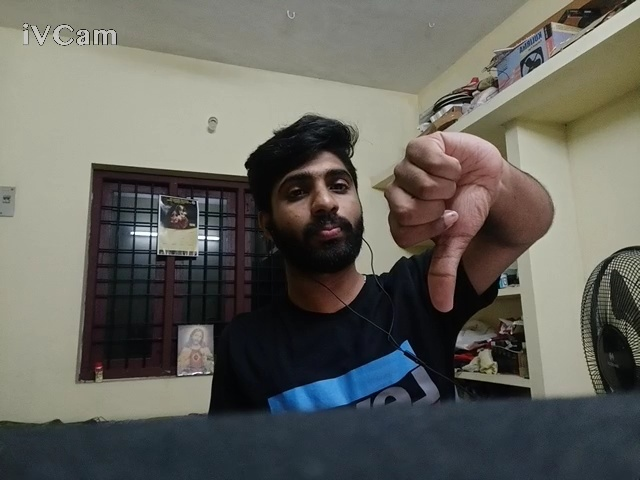No: (370, 120, 576, 326)
